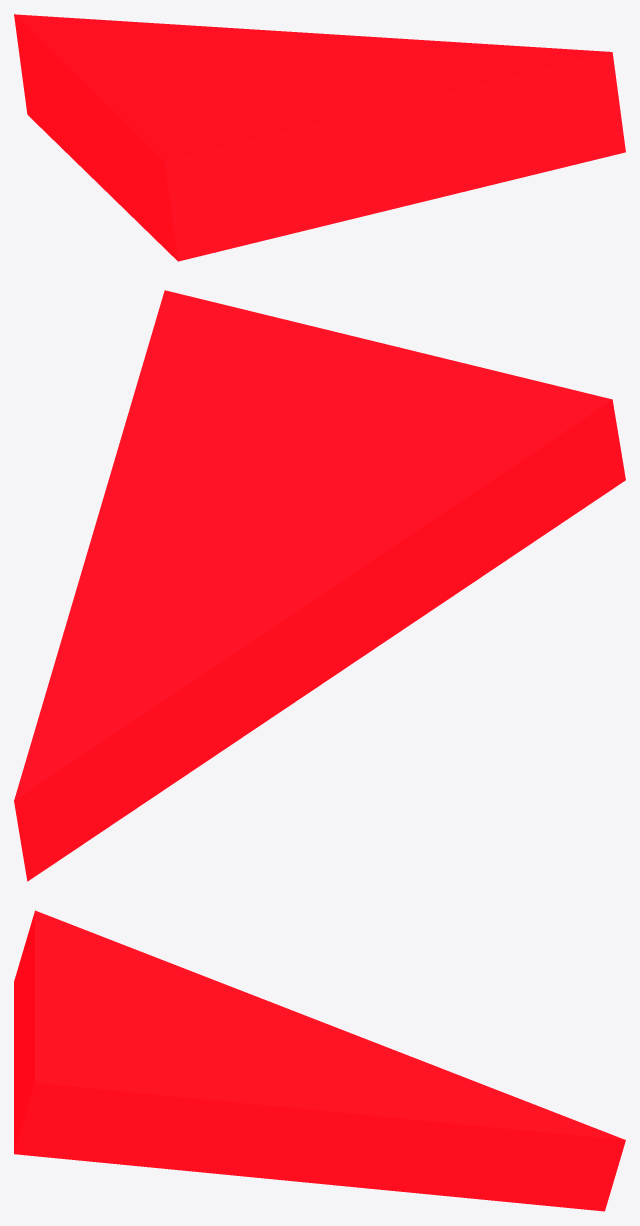
The model's file is CompassArrow.fbx.
3 views of the same model, one above another, from view 1: azimuth 30°, elevation 25°; view 2: azimuth 150°, elevation 25°; view 3: azimuth 270°, elevation 25° (orthographic). The views are drawn at different scales.
Visible parts, largest first — view 1: Cube; view 2: Cube; view 3: Cube.
Boxes of the visible parts, x1,y1,x2,y2 form: Cube: (14,14,625,261); Cube: (14,290,625,881); Cube: (14,910,625,1211).
Size of the model in its own units: 200 by 116 by 300.
